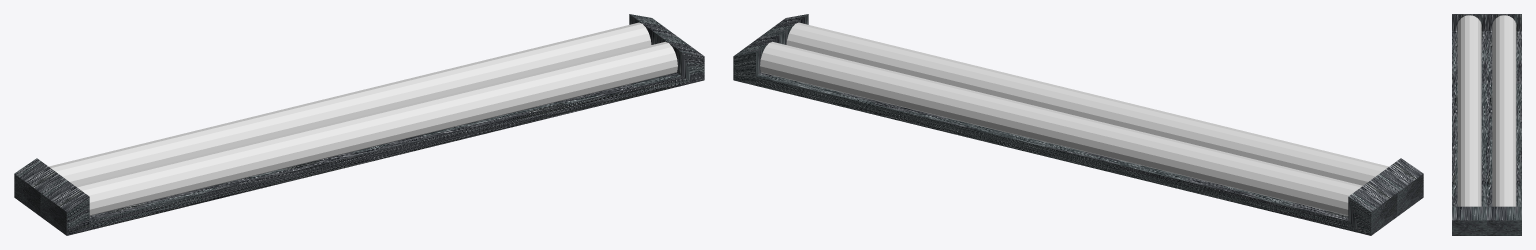
File: Light.fbx
3 views of the same model, side by side, from view 1: azimuth 30°, elevation 25°; view 2: azimuth 150°, elevation 25°; view 3: azimuth 270°, elevation 25° (orthographic). The views are drawn at different scales.
Visible parts, largest first — view 1: Case; view 2: Case; view 3: Case.
Part boxes in pixels (x1,y1,x2,y2): Case: [14, 14, 704, 235]; Case: [733, 14, 1423, 235]; Case: [1452, 14, 1521, 235].
Size of the model in its own units: 140 by 7.09 by 20.
